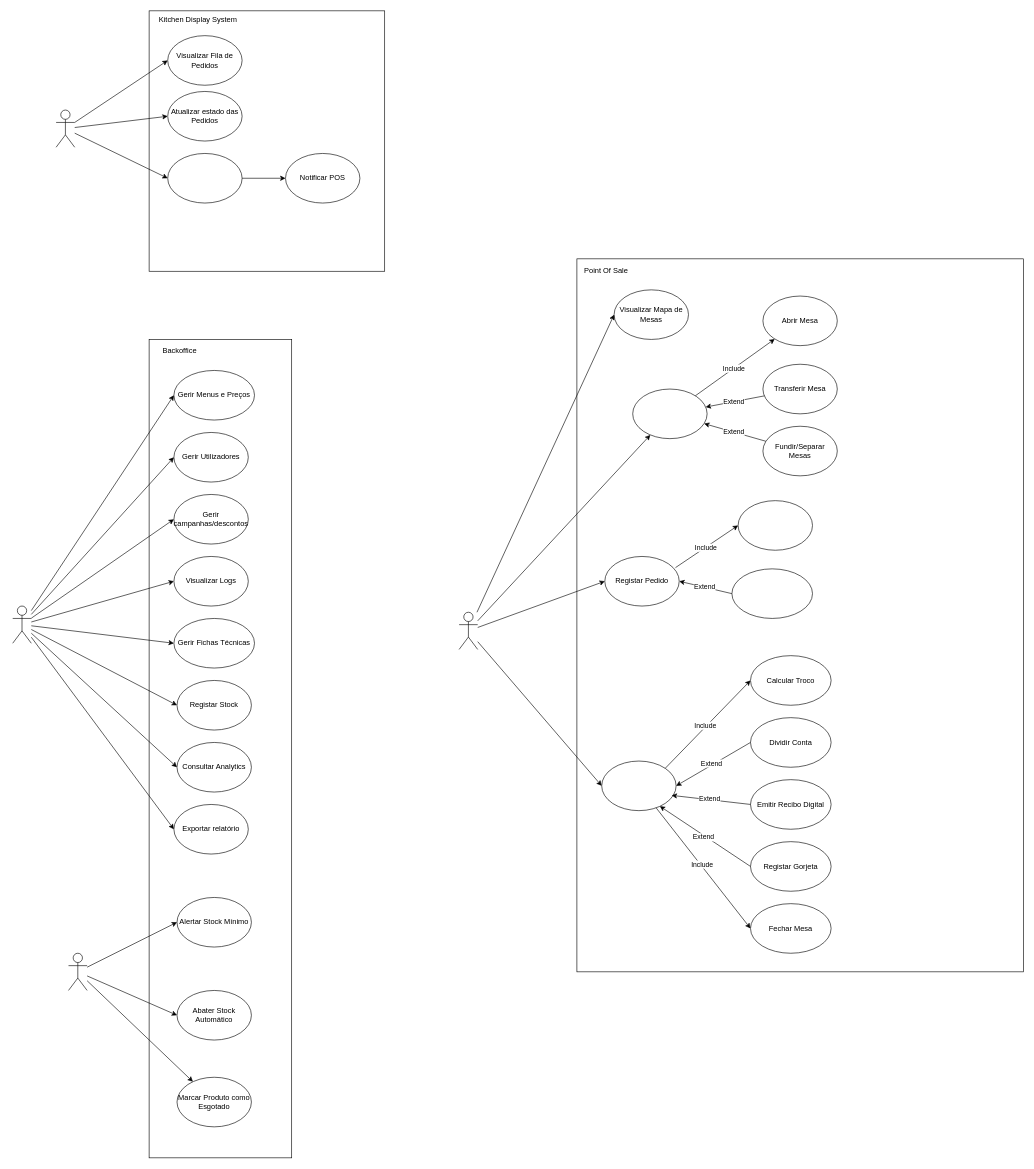
Image size: 1034x1169. Some labels were removed from this diagram. Here are the shapes that lost their labels. From the top down, the centre of each, then its label:
At pixel 65 128: "Cozinheiro".
At pixel 204 178: "Finalizar Pedido".
At pixel 669 413: "Gerir Mesas".
At pixel 775 525: "Enviar pedido para KDS".
At pixel 772 593: "Remover ingredientes".
At pixel 21 624: "Gestor".
At pixel 468 630: "Empregado de mesa".
At pixel 638 785: "Cobrar Pagamento".
At pixel 77 971: "Sistema".
